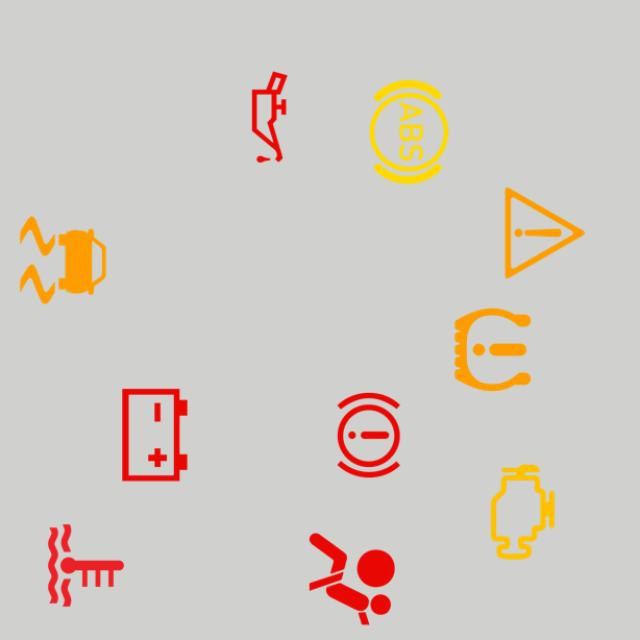Anti Lock Braking System: (352, 75, 466, 189)
Braking System Issue: (312, 378, 426, 492)
Charging System Issue: (98, 378, 212, 492)
Check Engine: (466, 456, 580, 570)
Electronic Stability Problem -ESP-: (6, 203, 120, 317)
Engine Overheating Warning Light: (29, 508, 143, 622)
Low Engine Oil Warning Light: (212, 60, 326, 174)
Low Tire Pressure Warning Light: (436, 293, 550, 407)
Master warning light: (488, 176, 602, 290)
SRS-Airbag: (295, 522, 409, 636)
